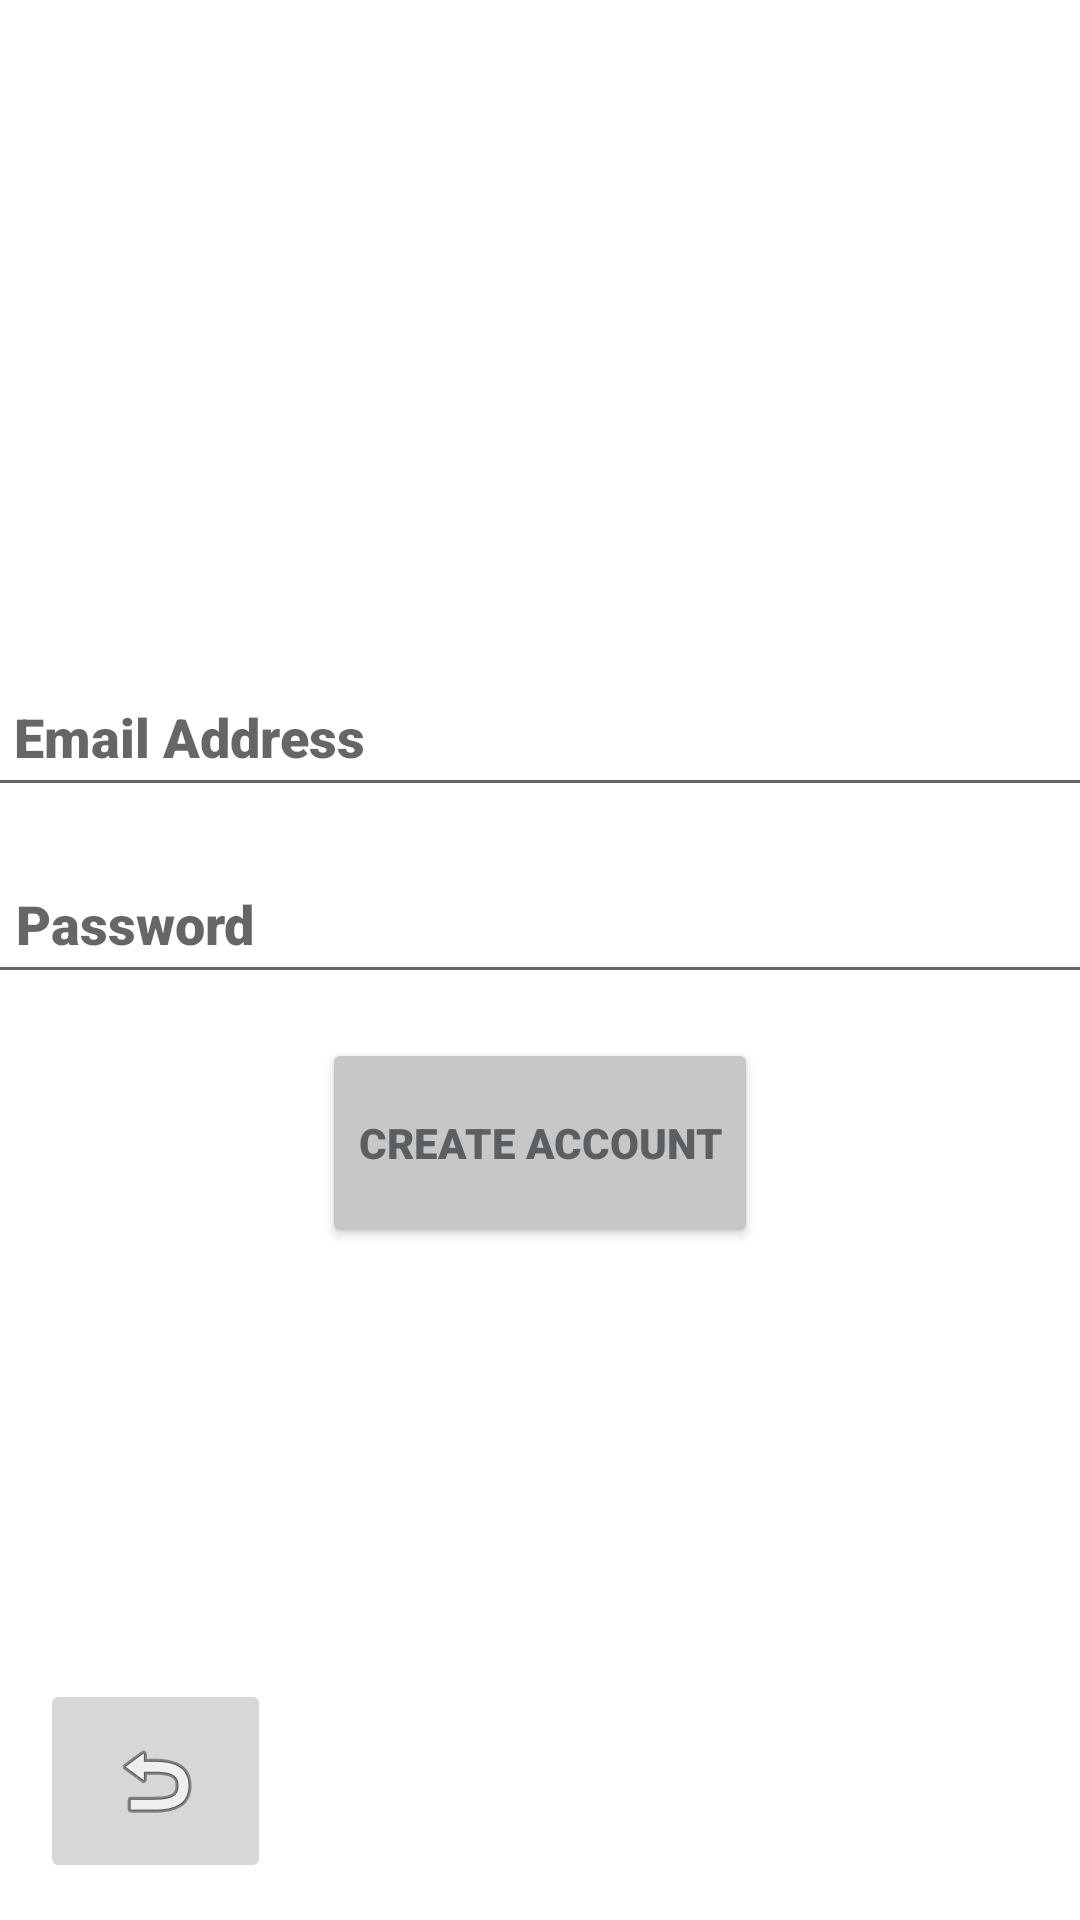

Where icons sit on this 1080*1920 app screen, as [x1,y1,x2,y2]:
revert: [52,1697,259,1865]
